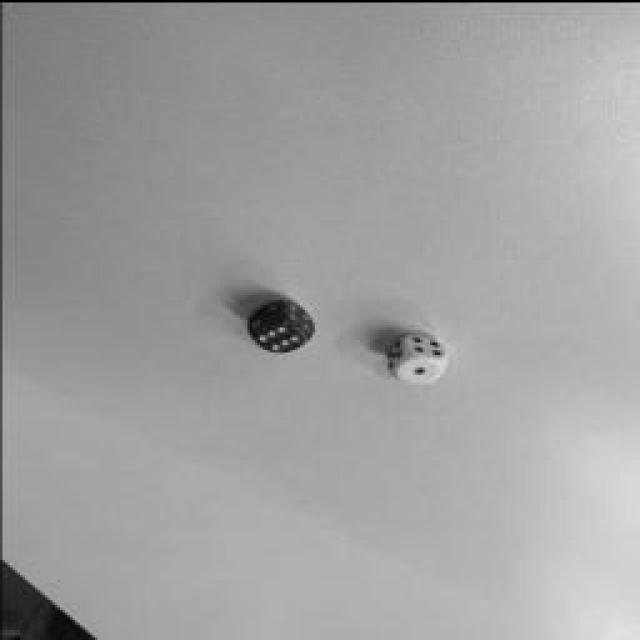dice_1: (394, 354, 444, 381)
dice_6: (250, 318, 305, 350)
